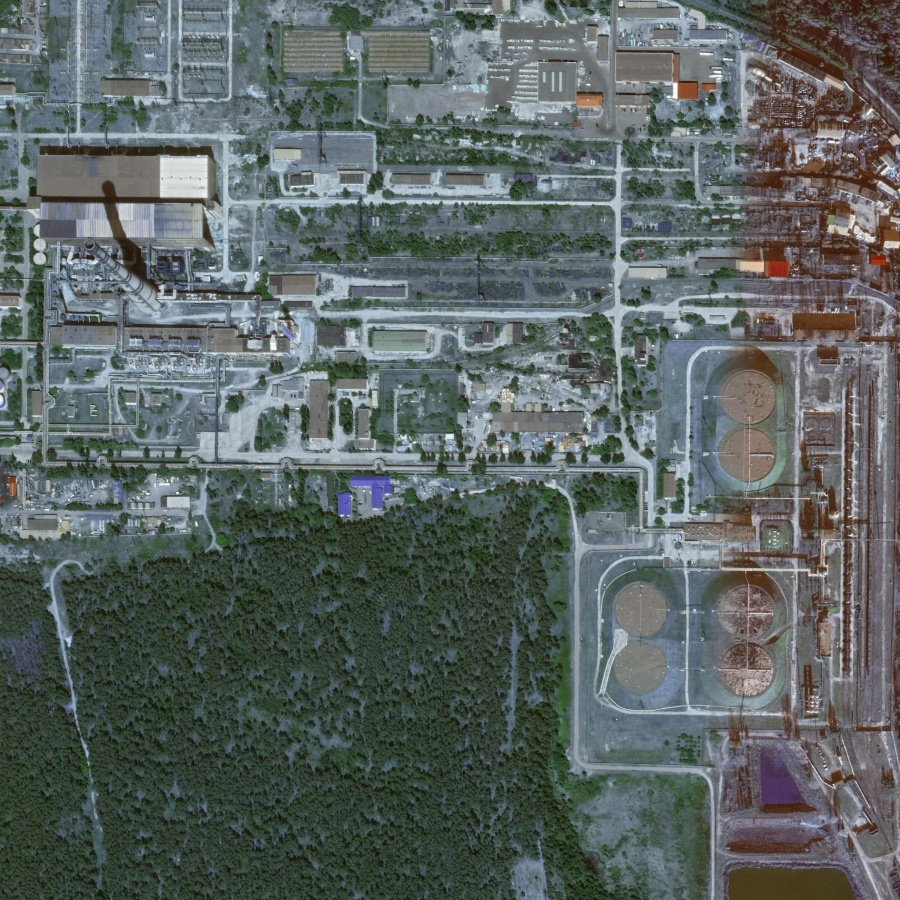PowerPlant: (574, 358, 822, 722)
